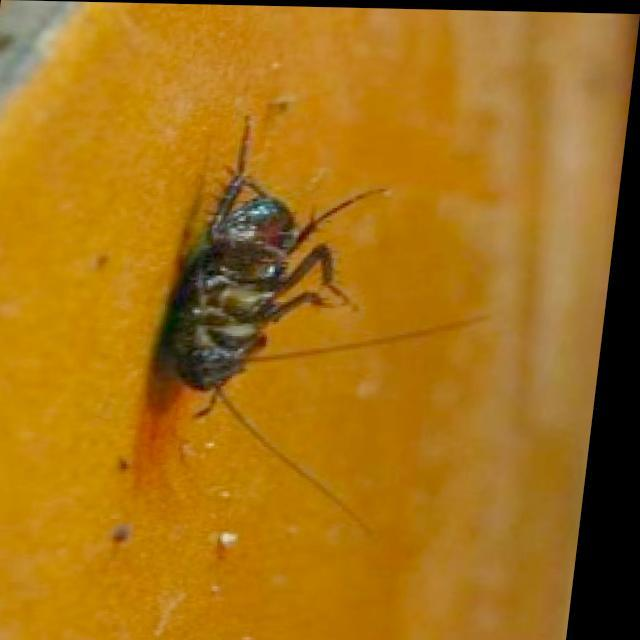cockroach: (142, 122, 357, 457)
